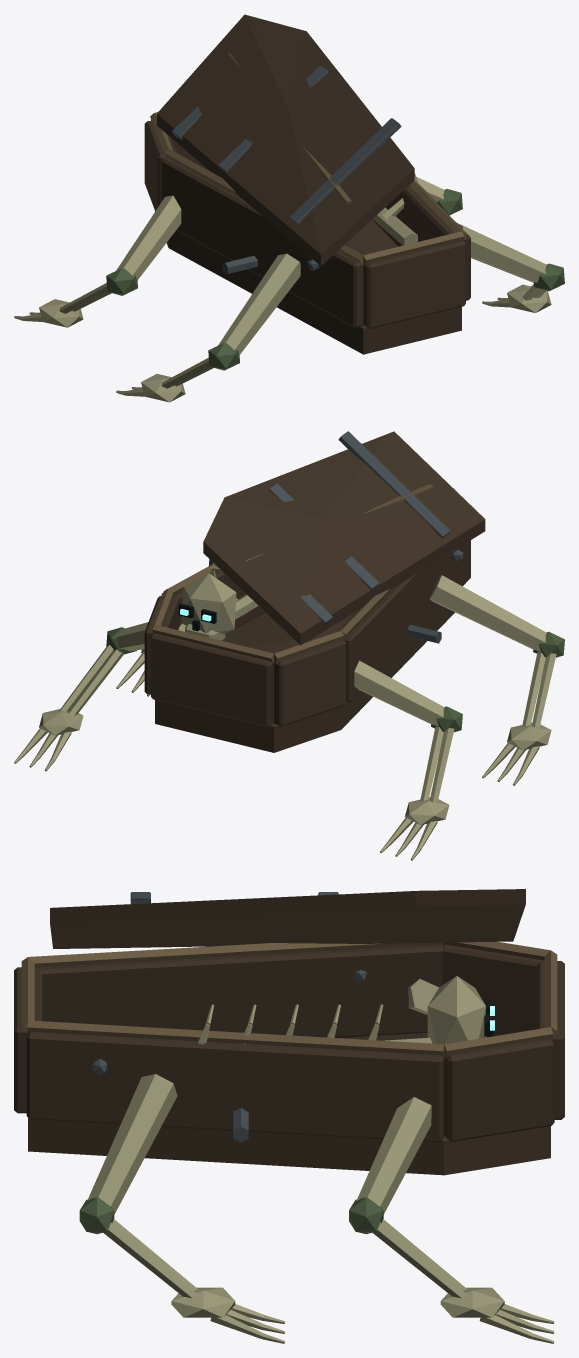
The model's file is coffin_crawler.glb.
The picture shows the model from 3 angles, top to bottom: view 1: azimuth 30°, elevation 25°; view 2: azimuth 150°, elevation 25°; view 3: azimuth 270°, elevation 25°; orthographic projection. The views are drawn at different scales.
Visible parts, largest first — view 1: coffin_crawler_AnimatedMesh; view 2: coffin_crawler_AnimatedMesh; view 3: coffin_crawler_AnimatedMesh.
Part boxes in pixels (x1,y1,x2,y2): coffin_crawler_AnimatedMesh: (14, 14, 564, 402); coffin_crawler_AnimatedMesh: (14, 431, 564, 860); coffin_crawler_AnimatedMesh: (14, 889, 564, 1343).
Bounding box in the file's own units: 1.96 × 1.24 × 1.76.
